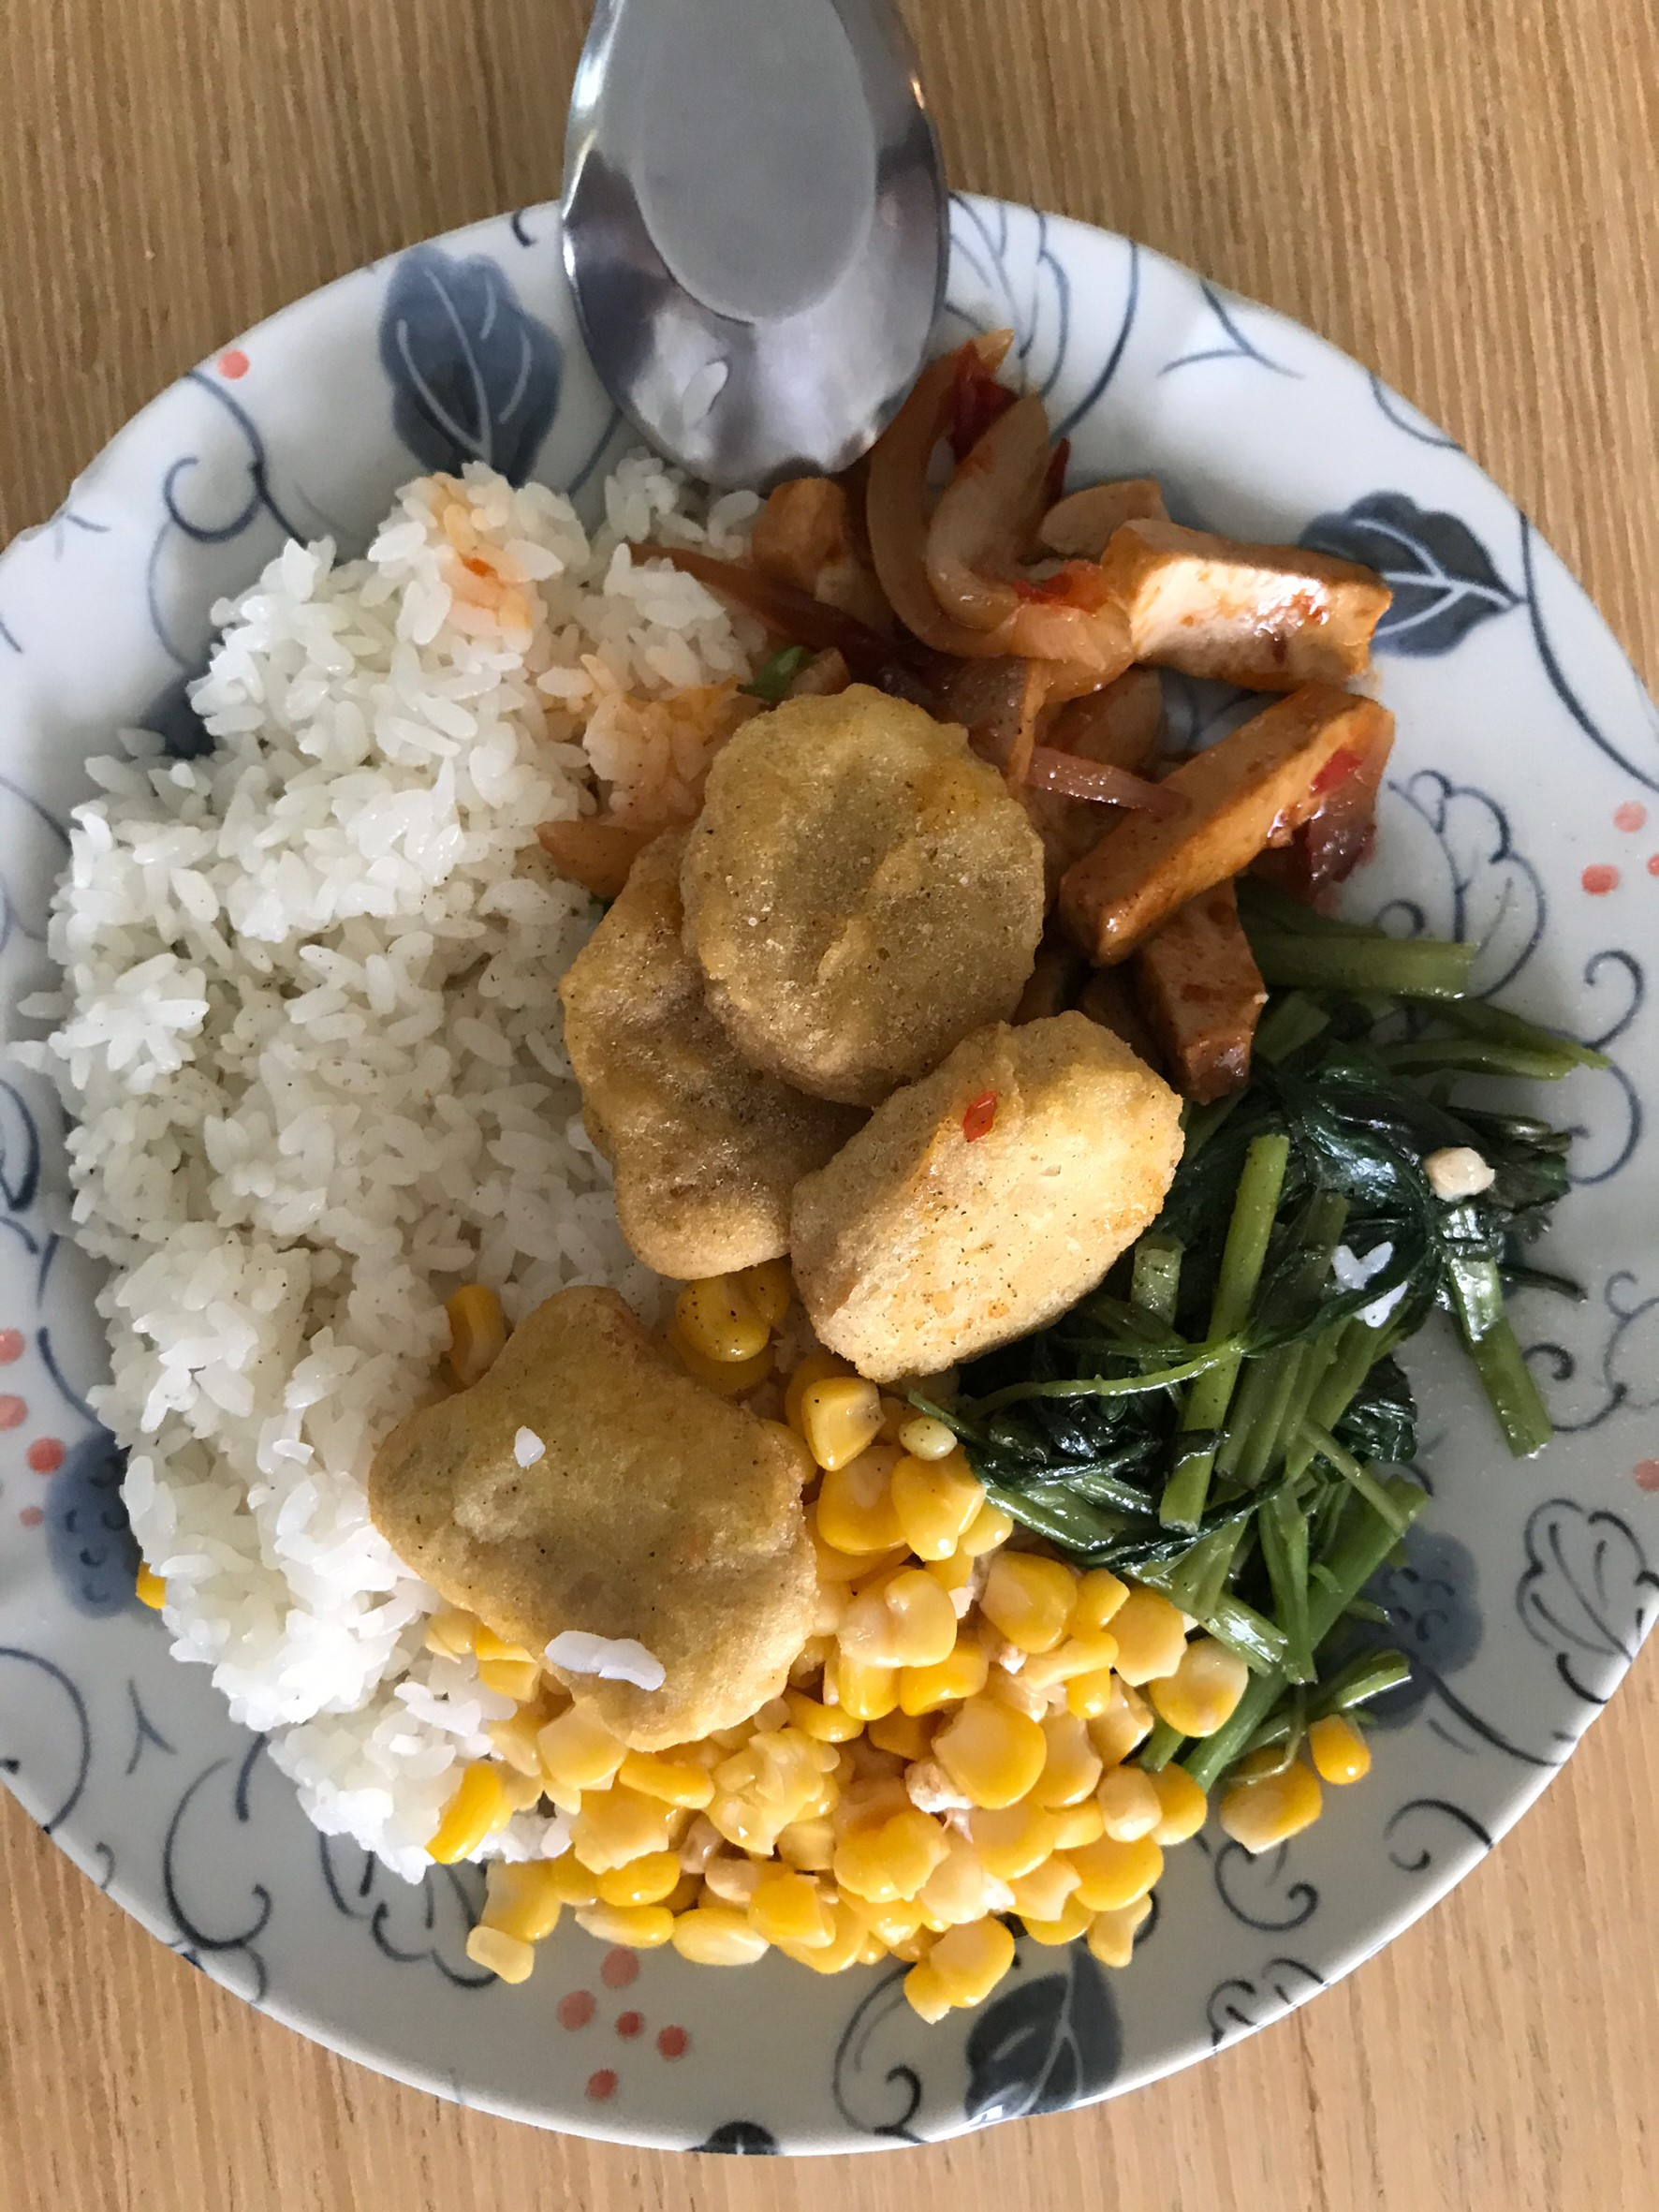chicken_nuggets: (556, 697, 1129, 1388), (385, 1302, 821, 1726)
rice: (61, 471, 606, 1815)
water_spinach: (1129, 920, 1530, 1731)
